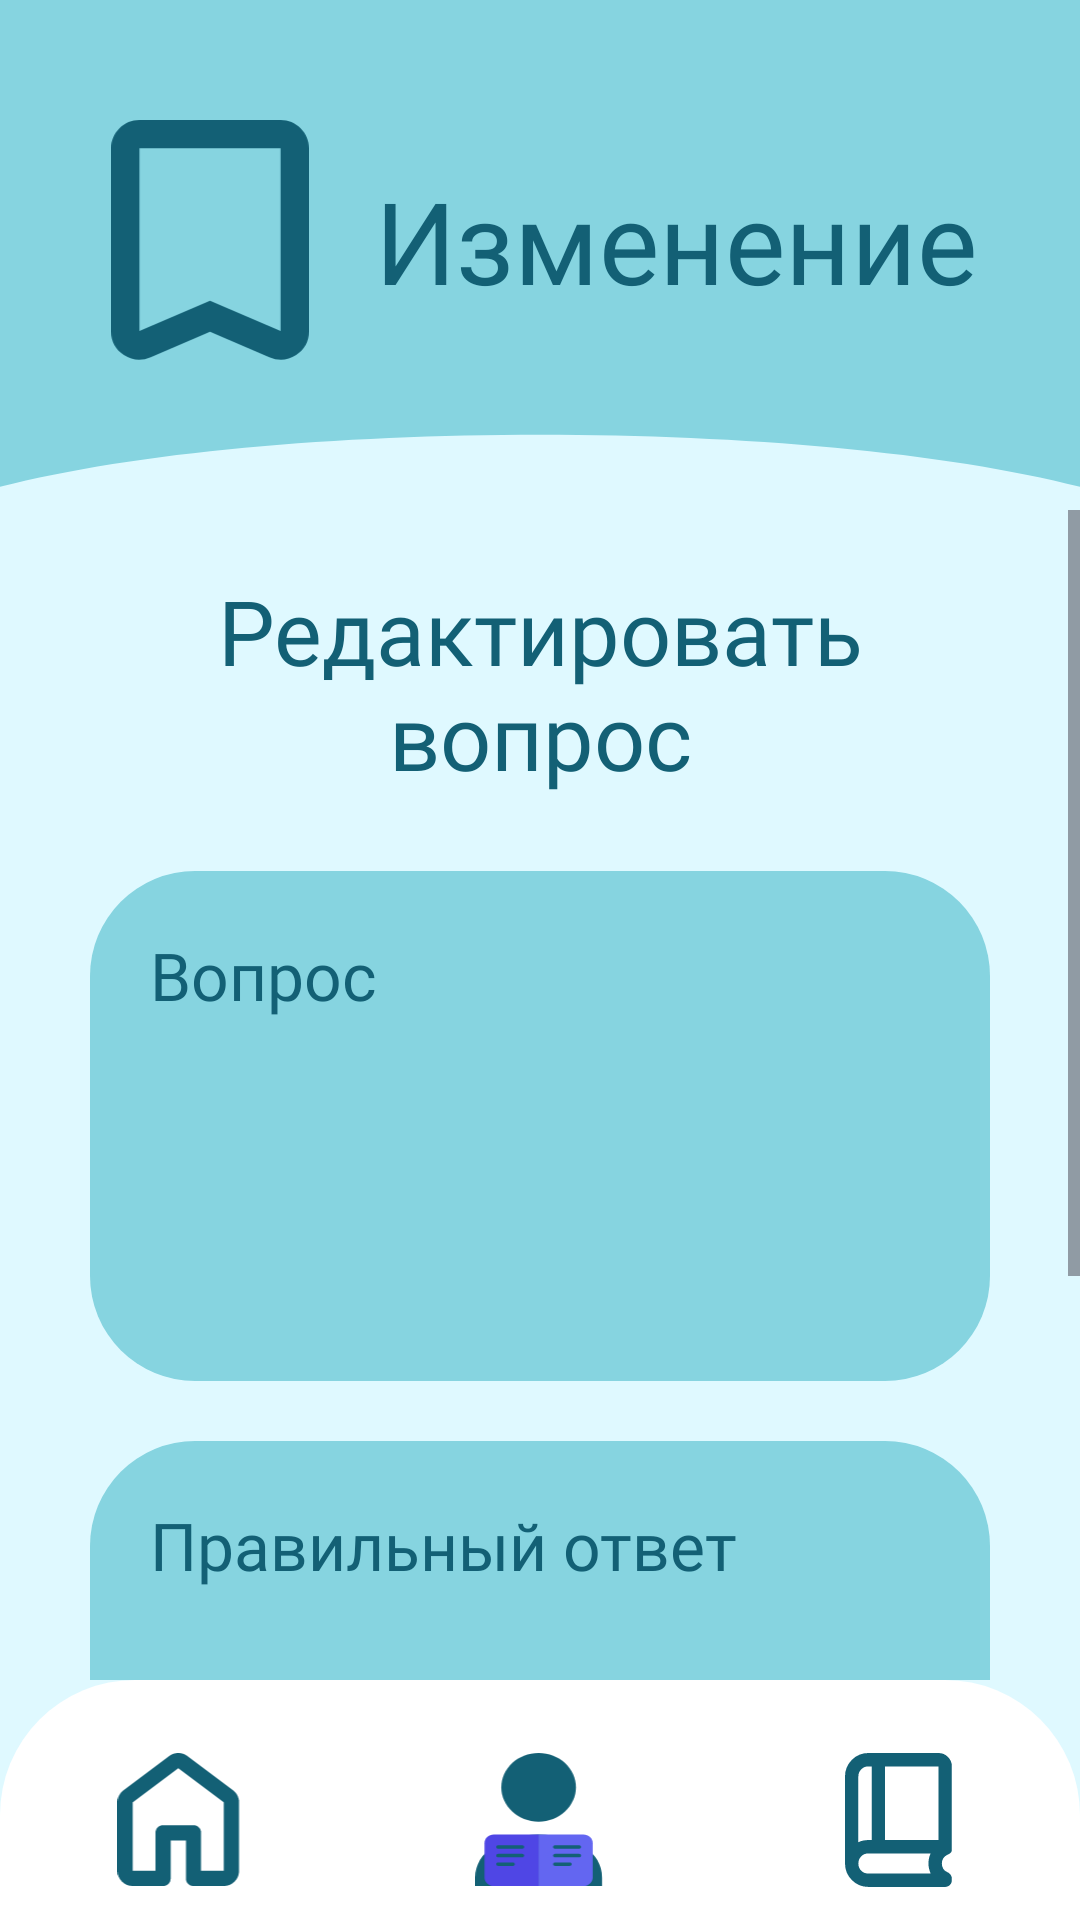

Screen size 1080x1920. Icon name, then its center in pixels as (x=x, y=y):
avaterbook: (x=539, y=1819)
book: (x=898, y=1820)
home: (x=178, y=1819)
